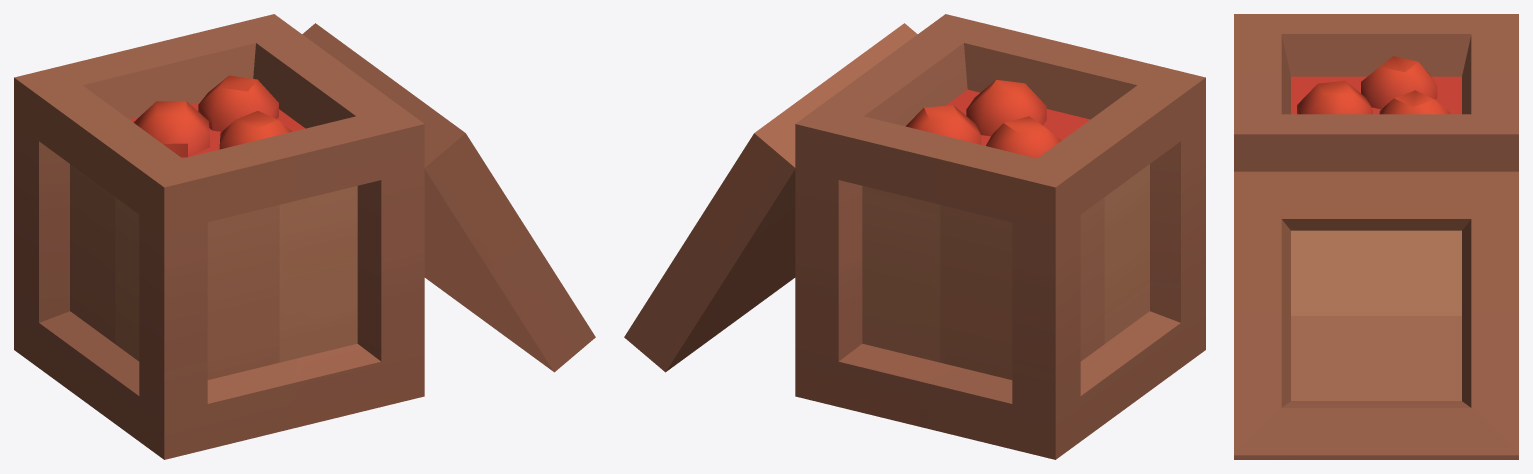
File: kay-caixote-aberto.gltf
The picture shows the model from 3 angles, left to right: view 1: azimuth 30°, elevation 25°; view 2: azimuth 150°, elevation 25°; view 3: azimuth 270°, elevation 25°; orthographic projection. The views are drawn at different scales.
Visible parts, largest first — view 1: crate_open; view 2: crate_open; view 3: crate_open.
Part boxes in pixels (x1,y1,x2,y2): crate_open: (14, 14, 595, 459); crate_open: (624, 14, 1205, 459); crate_open: (1234, 14, 1518, 459).
Bounding box in the file's own units: 1.66 × 1.03 × 1.
Materials: 1 (1 with a texture image).
